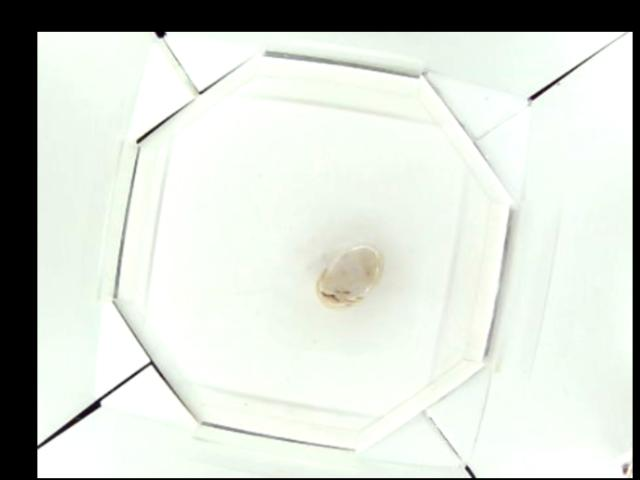Pebble: (317, 243, 388, 313)
